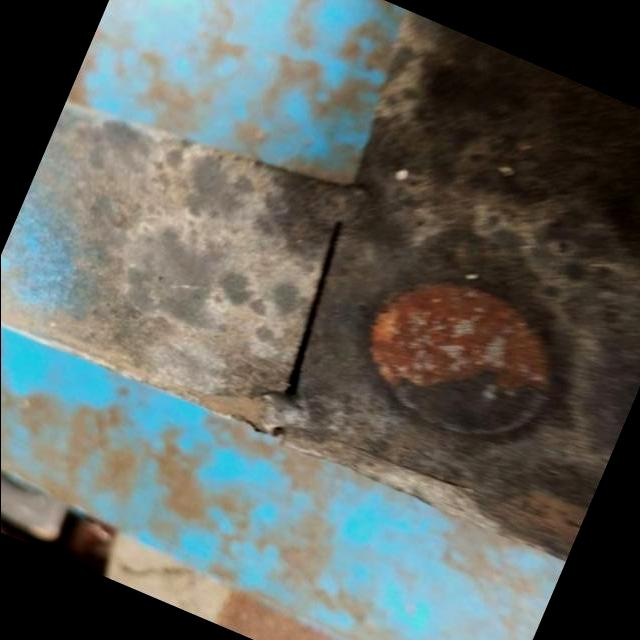defect: (275, 213, 345, 403)
